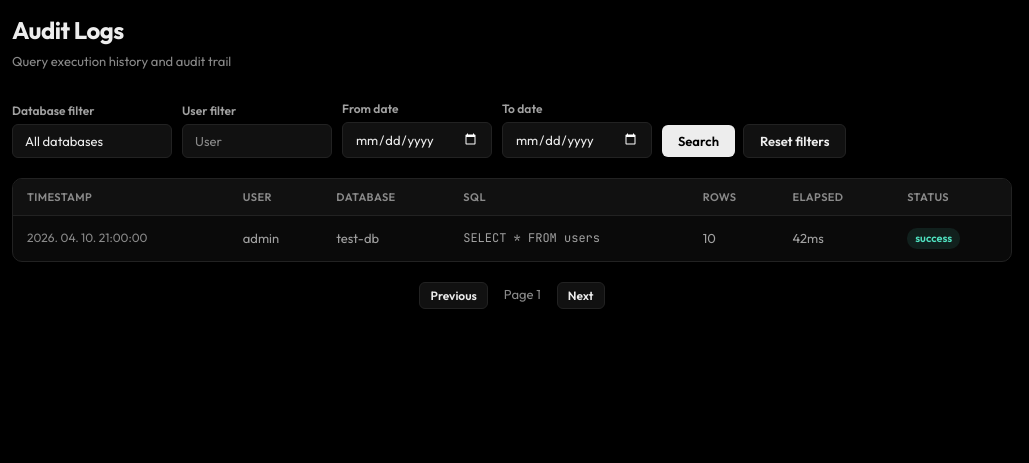
Test: AuditLogs › expands row to show full SQL on click
Expected: the text "admin" is shown, [229, 216, 322, 260]
Click the button with aria-label "Toggle details for audit log 1" at coordinates (512, 238), box [13, 216, 1011, 260]
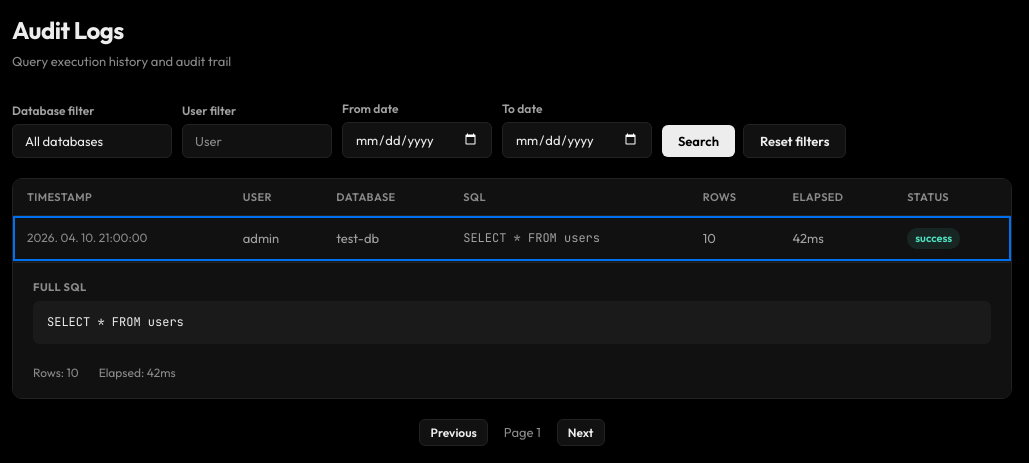
Expected: the heading "Full SQL" is shown, [33, 280, 86, 294]
Expected: the text "SELECT * FROM users" is shown, [33, 301, 991, 344]
Expected: the text with class "detail-sql" reads "SELECT * FROM users", [47, 314, 184, 330]
